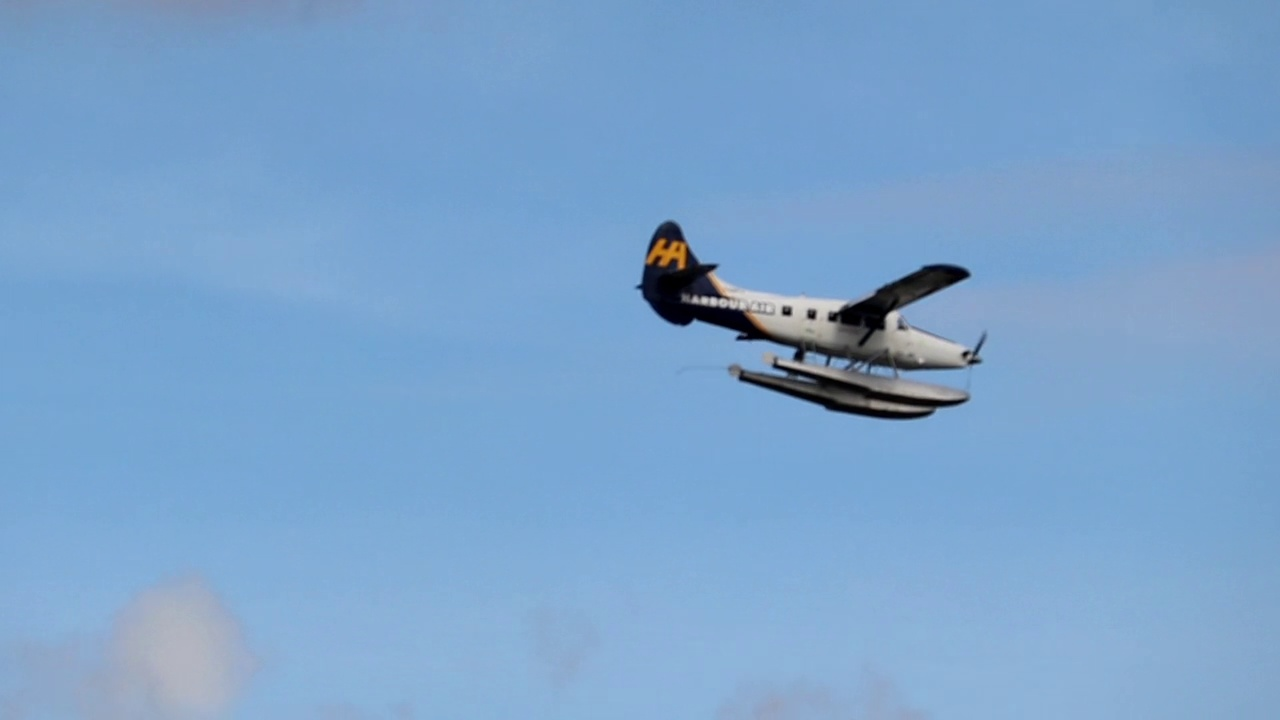plane: (633, 221, 985, 420)
